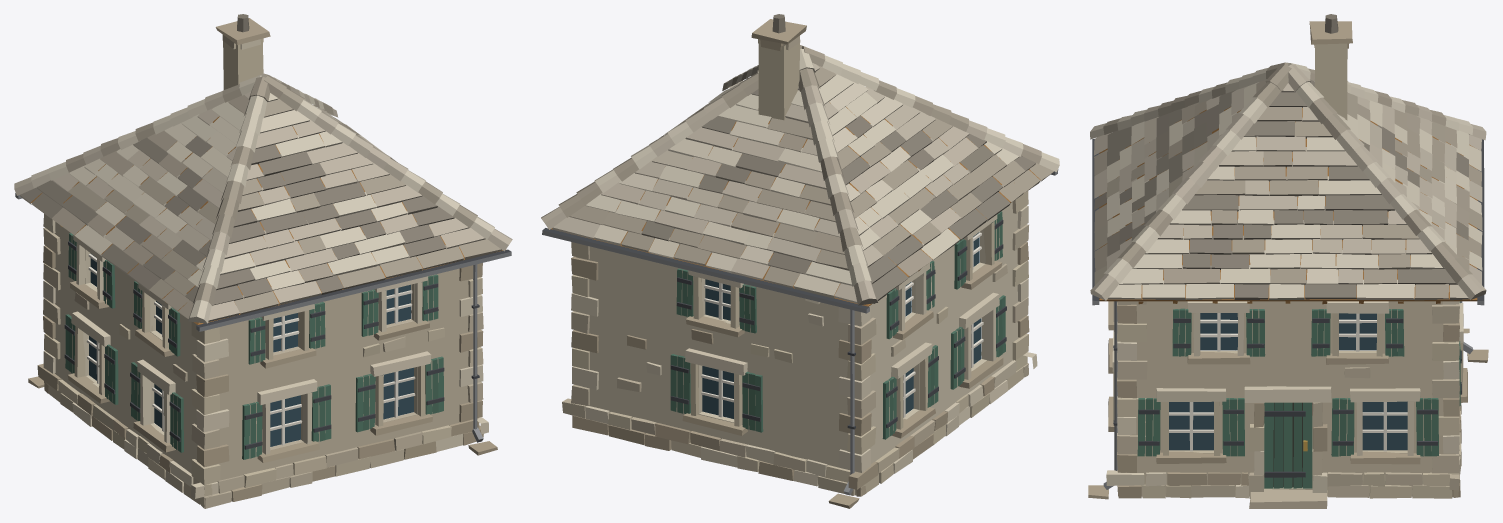
Rendered from presbytere.glb.
3 renders of one model, left to right at view 1: azimuth 30°, elevation 25°; view 2: azimuth 150°, elevation 25°; view 3: azimuth 270°, elevation 25°, orthographic. The views are drawn at different scales.
Parts seen in each view (by area): view 1: presbytere; view 2: presbytere; view 3: presbytere.
Boxes of the visible parts, x1,y1,x2,y2 form: presbytere: (14, 14, 512, 508); presbytere: (541, 14, 1059, 508); presbytere: (1088, 14, 1488, 508).
Size of the model in its own units: 8.29 by 9.45 by 8.36.
